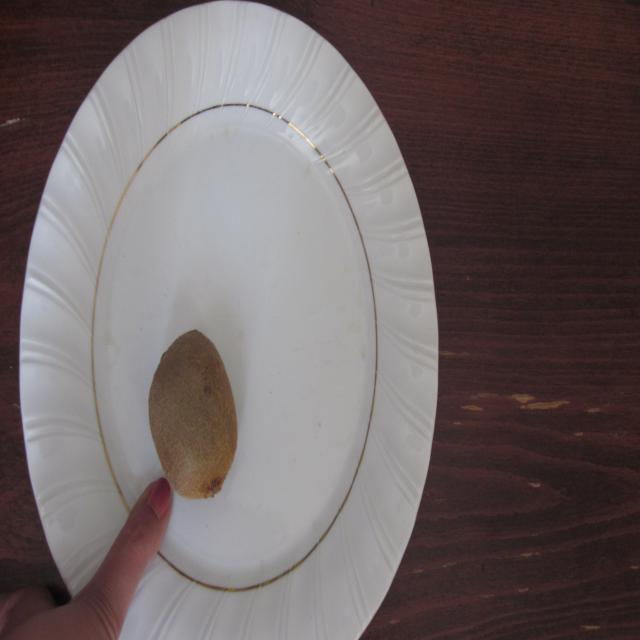kiwi: (146, 326, 238, 500)
